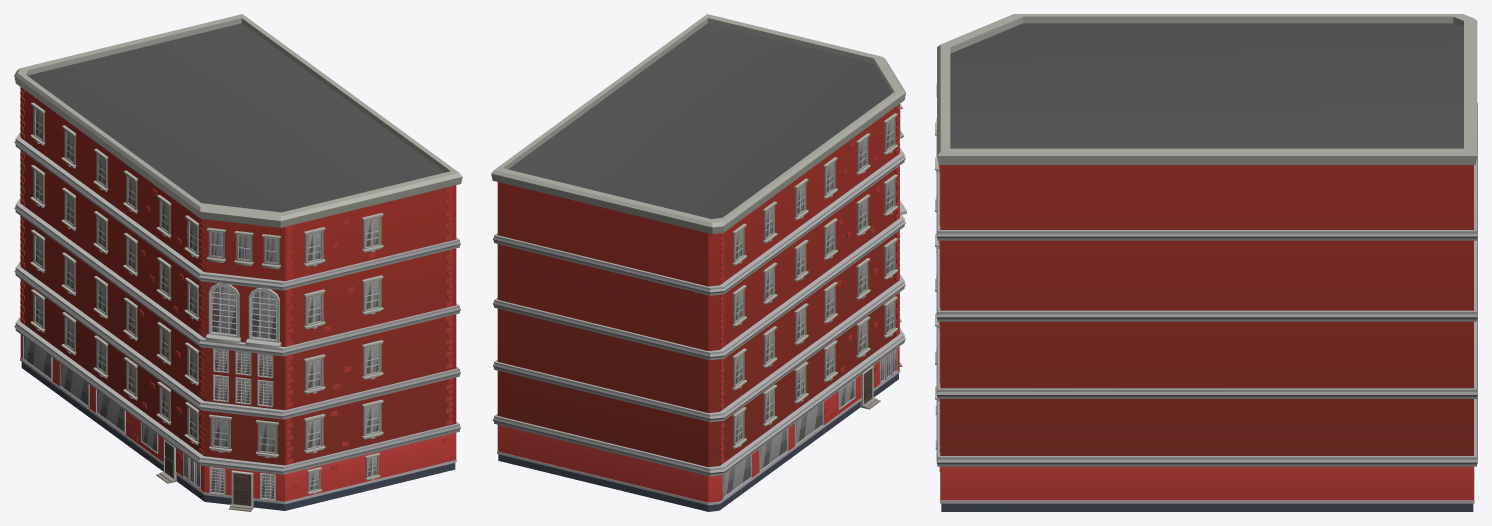
The model's file is Building_25_8_A.glb.
The picture shows the model from 3 angles, left to right: view 1: azimuth 30°, elevation 25°; view 2: azimuth 150°, elevation 25°; view 3: azimuth 270°, elevation 25°; orthographic projection. The views are drawn at different scales.
Visible parts, largest first — view 1: Building_25_8_A; view 2: Building_25_8_A; view 3: Building_25_8_A.
Part boxes in pixels (box(x1,y1,x2,y2)): Building_25_8_A: box(14, 14, 462, 511); Building_25_8_A: box(491, 14, 906, 511); Building_25_8_A: box(935, 14, 1477, 511).
Bounding box in the file's own units: 16.83 × 20.14 × 27.29.
3 materials, 3 textured.
